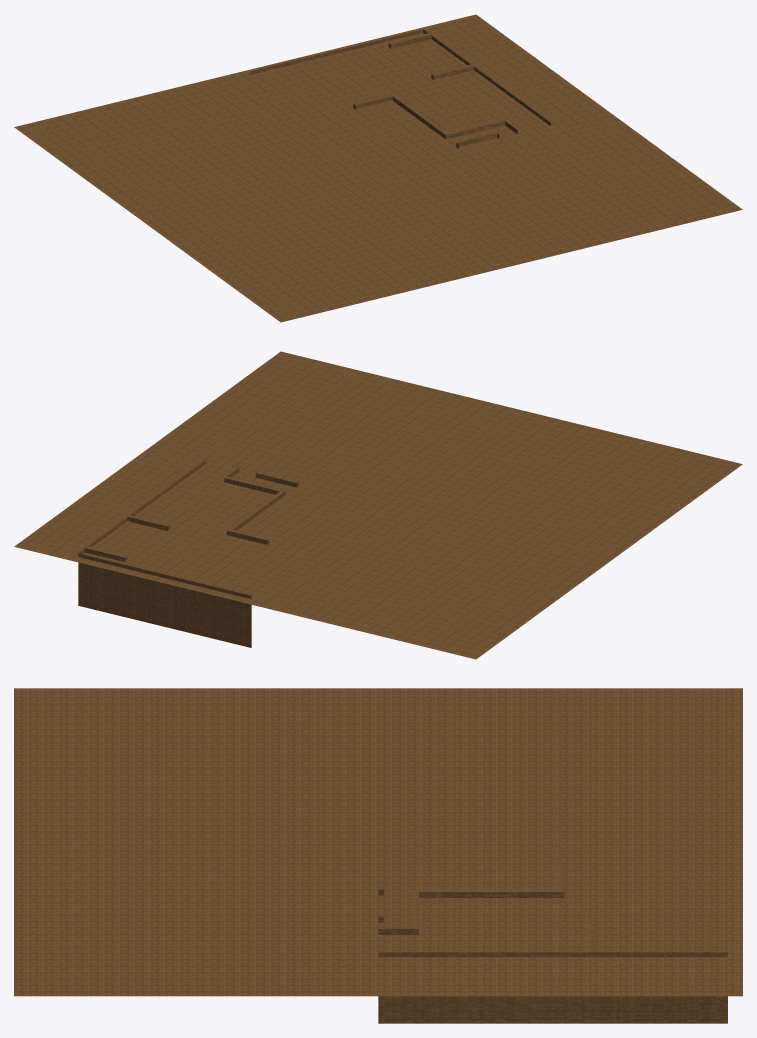
File: Part0.gltf.glb
The picture shows the model from 3 angles, top to bottom: view 1: azimuth 30°, elevation 25°; view 2: azimuth 150°, elevation 25°; view 3: azimuth 270°, elevation 25°; orthographic projection. The views are drawn at different scales.
Parts seen in each view (by area): view 1: Plane, map; view 2: Plane, map; view 3: Plane, map.
Boxes of the visible parts, box(x1,y1,x2,y2) form: Plane: box(14, 14, 742, 322); map: box(249, 29, 550, 148); Plane: box(14, 351, 742, 659); map: box(78, 460, 298, 647); Plane: box(14, 688, 742, 996); map: box(378, 865, 727, 1023).
Bounding box in the file's own units: 126 × 13.86 × 126.
3 materials, 3 textured.
